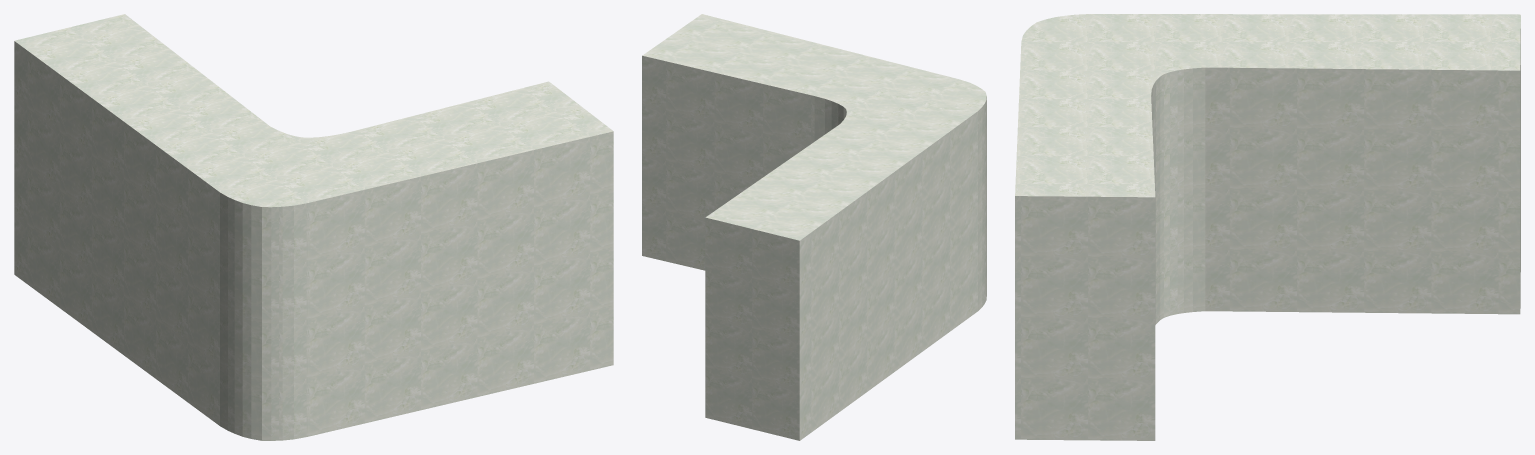
Rendered from PolyShape (8).fbx.
The picture shows the model from 3 angles, left to right: view 1: azimuth 30°, elevation 25°; view 2: azimuth 150°, elevation 25°; view 3: azimuth 270°, elevation 25°; orthographic projection. The views are drawn at different scales.
Visible parts, largest first — view 1: PolyShape__8_; view 2: PolyShape__8_; view 3: PolyShape__8_.
Part boxes in pixels (x1,y1,x2,y2): PolyShape__8_: (14,14,613,440); PolyShape__8_: (642,14,986,440); PolyShape__8_: (1015,14,1520,440).
Bounding box in the file's own units: 645 × 400 × 753.
